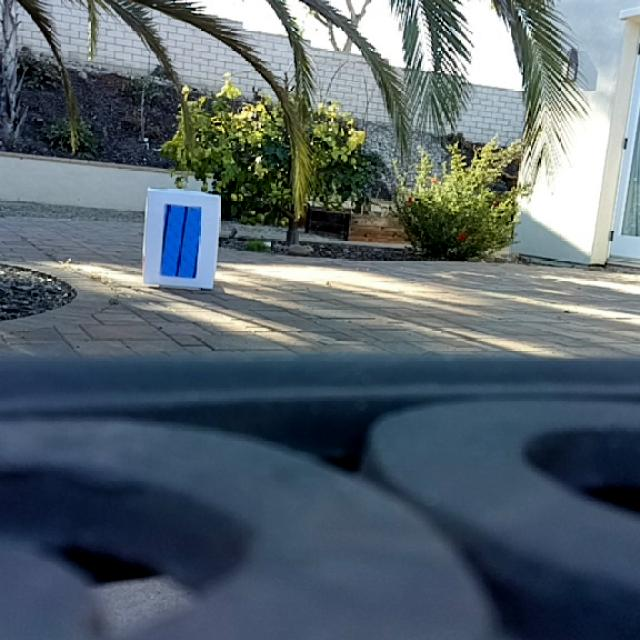led: (162, 204, 200, 278)
